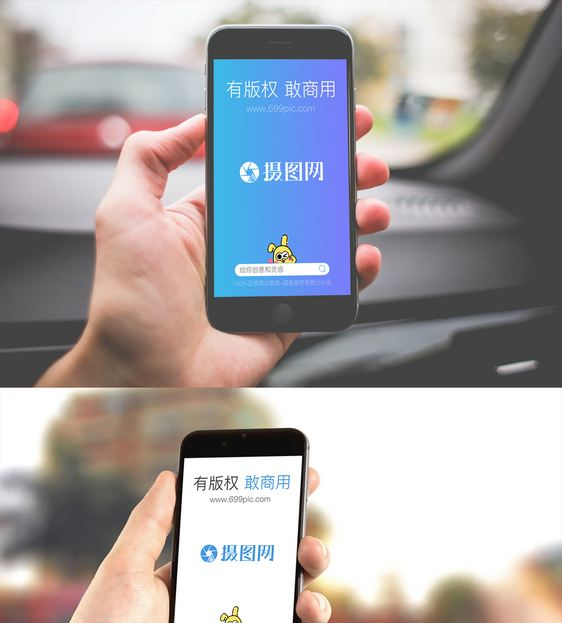phone: (90, 19, 392, 387), (66, 412, 342, 623)
